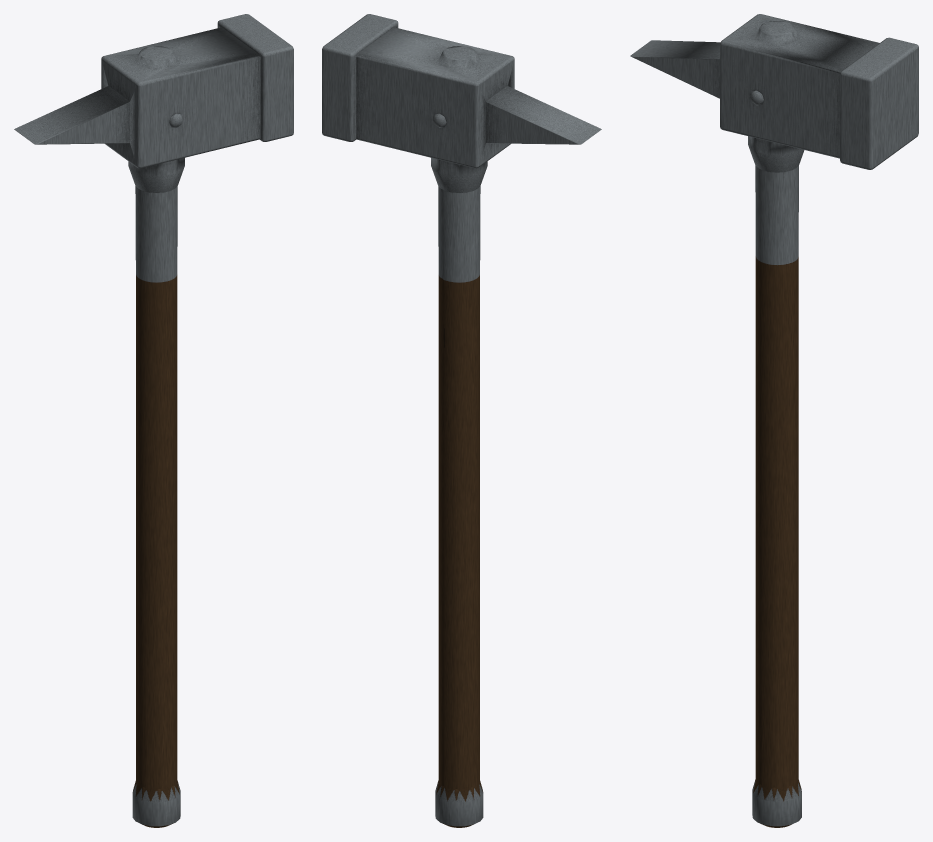
File: warhammer-plain.glb
The picture shows the model from 3 angles, left to right: view 1: azimuth 30°, elevation 25°; view 2: azimuth 150°, elevation 25°; view 3: azimuth 330°, elevation 25°; orthographic projection. The views are drawn at different scales.
Visible parts, largest first — view 1: warhammer-plain; view 2: warhammer-plain; view 3: warhammer-plain.
Part boxes in pixels (<box>): warhammer-plain: <box>14,14,293,827</box>; warhammer-plain: <box>322,14,601,827</box>; warhammer-plain: <box>630,14,918,827</box>.
Size of the model in its own units: 0.3169 by 0.94 by 0.105.
1 material, 1 textured.
